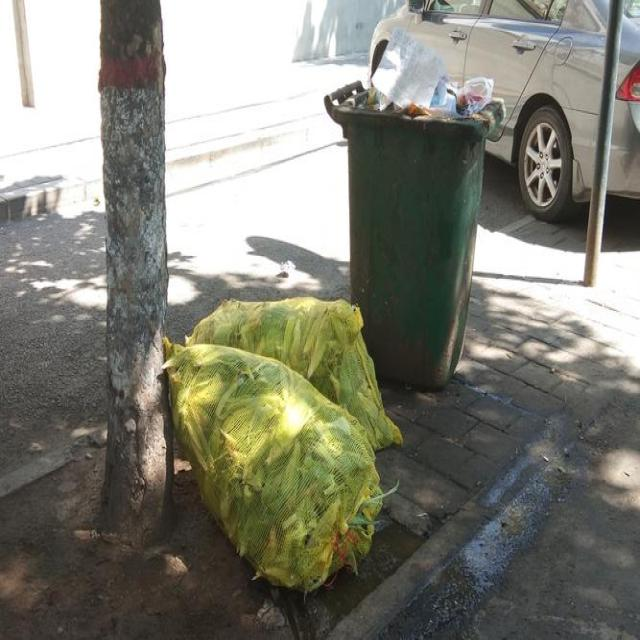garbage: (163, 294, 403, 592)
overflow: (323, 26, 503, 390)
